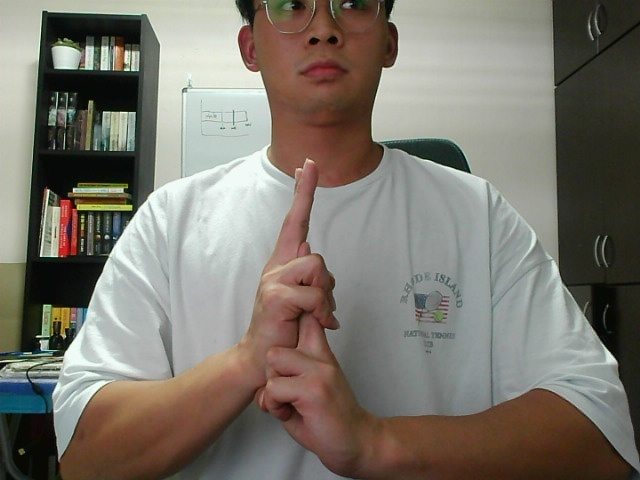Ram: (236, 149, 375, 474)
